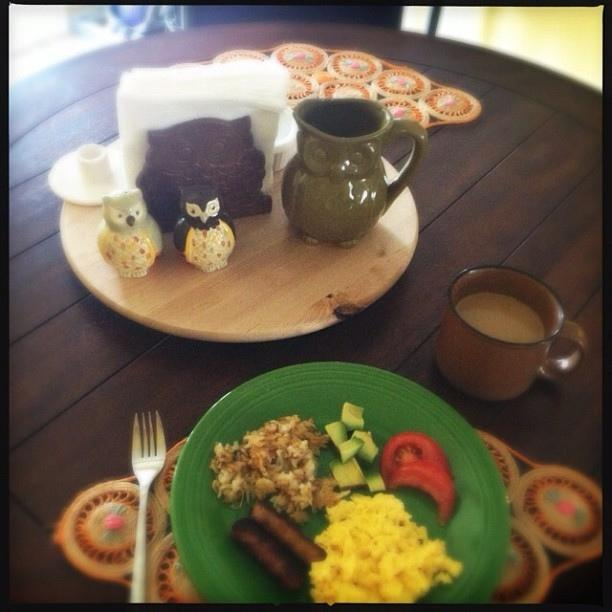tomato: (379, 431, 455, 527)
